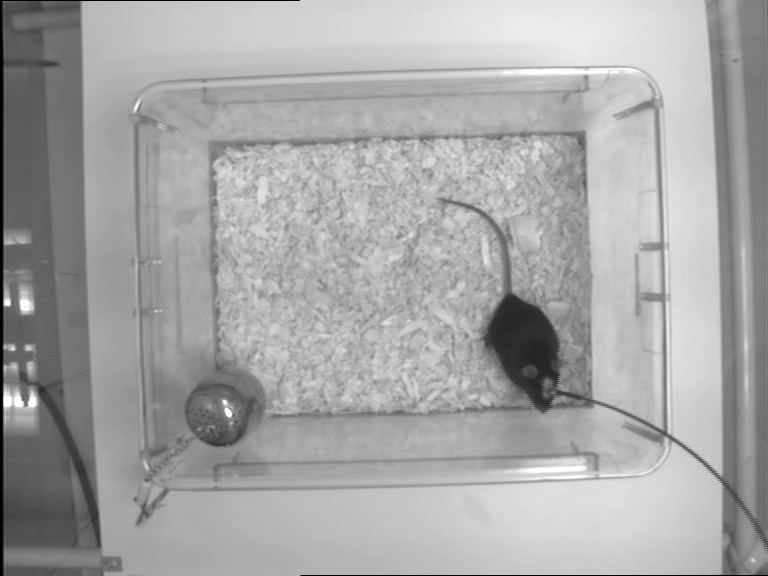mice: (435, 194, 560, 413)
